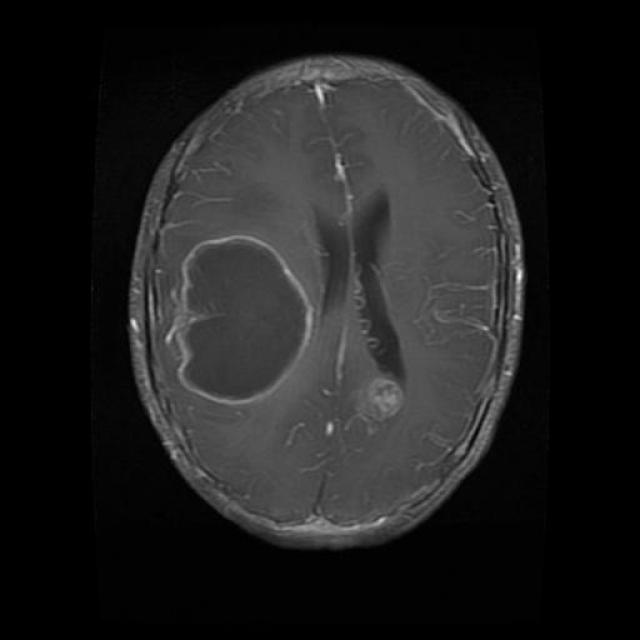Brain-Tumor: (169, 224, 321, 412)
